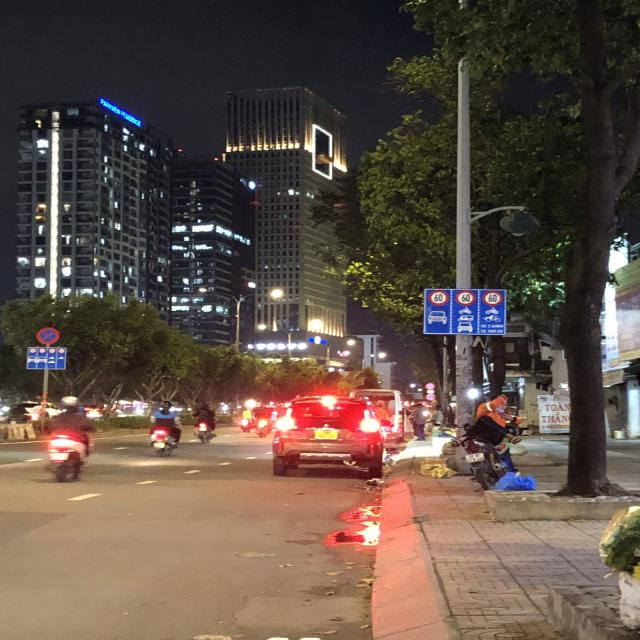Bien bao cam dung xe va do xe: (31, 324, 64, 346)
Bien bao toc do toi da cho phep: (425, 287, 449, 310), (456, 288, 479, 306), (482, 289, 505, 307)
